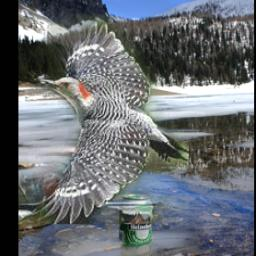Woodpecker: (19, 15, 190, 225)
